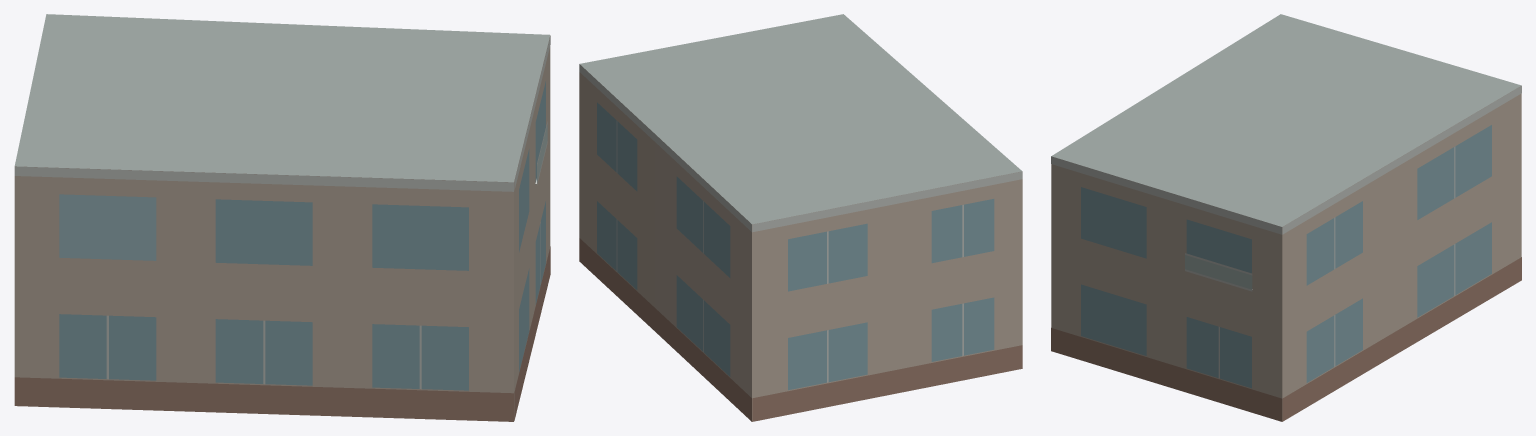
File: survey-upis-32979967.glb
3 renders of one model, left to right at view 1: azimuth 30°, elevation 25°; view 2: azimuth 150°, elevation 25°; view 3: azimuth 270°, elevation 25°, orthographic. The views are drawn at different scales.
Parts seen in each view (by area): view 1: survey-upis-32979967.tmp; view 2: survey-upis-32979967.tmp; view 3: survey-upis-32979967.tmp.
Boxes of the visible parts, x1=… form: survey-upis-32979967.tmp: x1=14, y1=14, x2=550, y2=421; survey-upis-32979967.tmp: x1=579, y1=14, x2=1022, y2=421; survey-upis-32979967.tmp: x1=1051, y1=14, x2=1521, y2=421.
Bounding box in the file's own units: 14.31 × 6.1 × 13.36.
